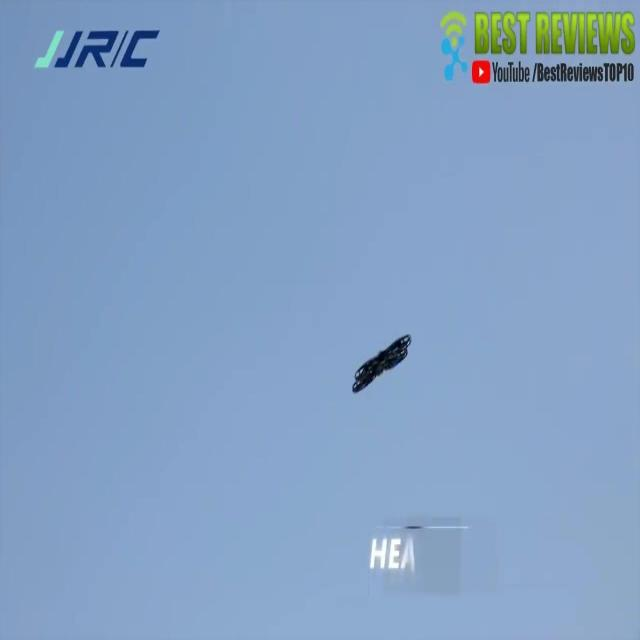UAV: (352, 334, 412, 394)
